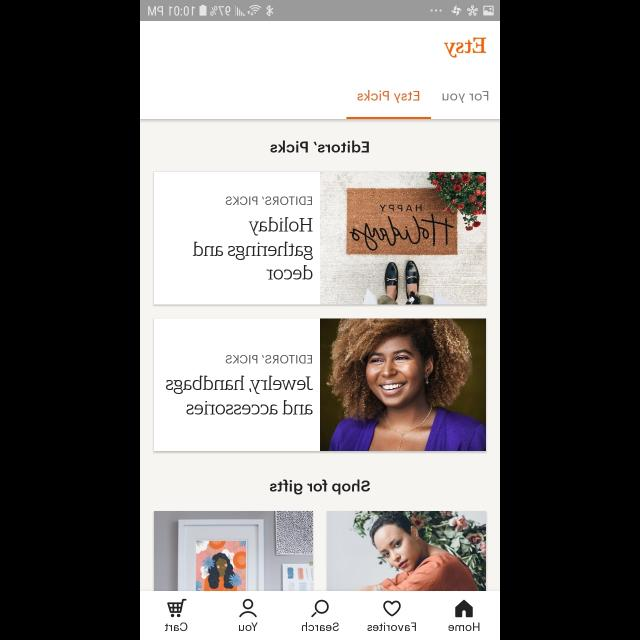icon: (167, 598, 187, 618), (239, 598, 257, 618), (311, 599, 329, 617), (455, 599, 473, 617), (383, 600, 401, 616)
image: (319, 318, 485, 452), (320, 172, 486, 304), (154, 511, 314, 591), (326, 511, 486, 591)
text: (193, 217, 313, 280), (165, 375, 312, 415), (270, 479, 370, 495), (270, 141, 370, 153), (442, 38, 486, 58), (225, 354, 312, 364), (357, 90, 419, 104), (225, 197, 312, 206), (442, 91, 488, 103), (368, 622, 417, 632), (302, 621, 338, 631), (448, 622, 480, 632), (165, 622, 188, 632), (238, 622, 258, 630)
uppertaskbar: (140, 1, 500, 22)
